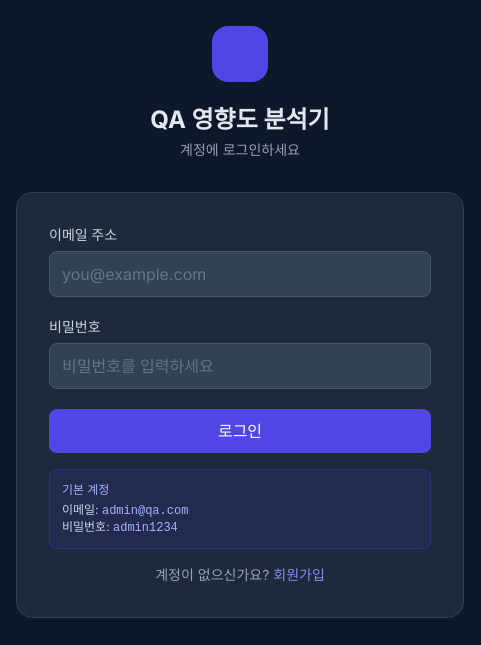
Test: C10 — LoginPage › submit with empty password shows inline error message
Type "user@example.com" into the field with test id "email-input" at x=240, y=274, box [49, 251, 431, 297]
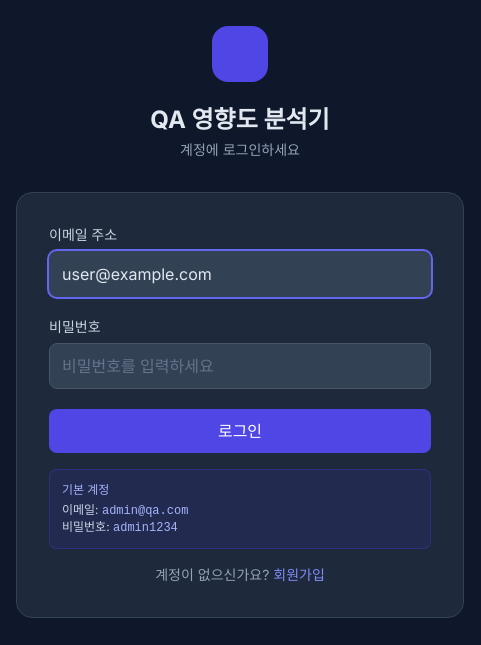
Click the button with test id "login-btn" at x=240, y=431, box [49, 409, 431, 453]
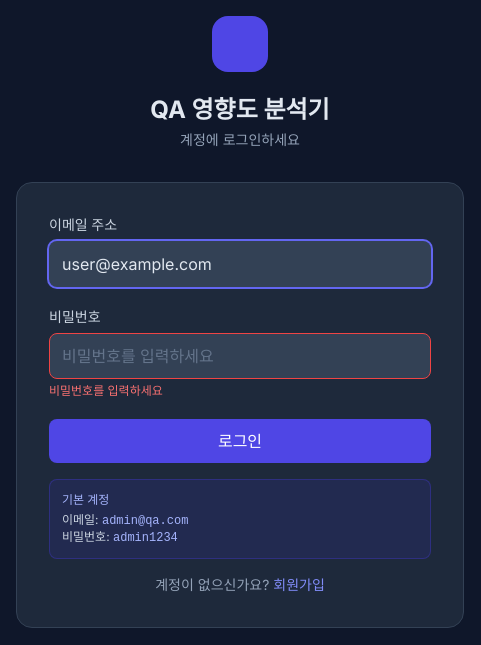
Now the text "비밀번호를 입력하세요" is shown, box [49, 383, 163, 398]
